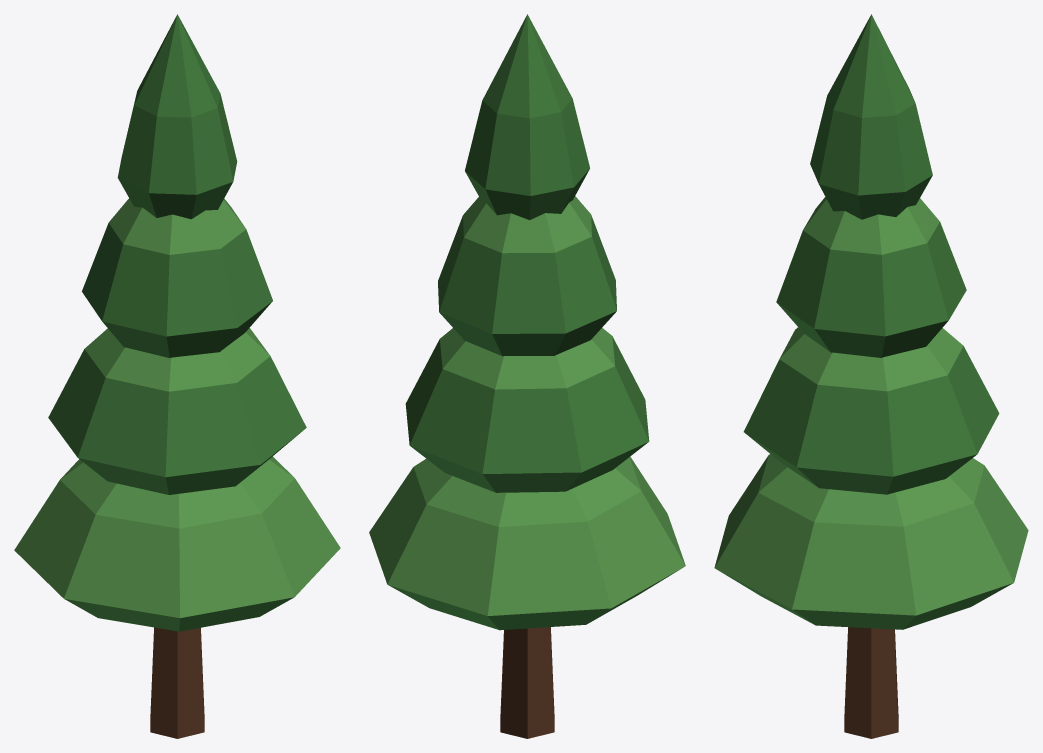
The model's file is tree_pineRoundC.glb.
The picture shows the model from 3 angles, left to right: view 1: azimuth 30°, elevation 25°; view 2: azimuth 150°, elevation 25°; view 3: azimuth 270°, elevation 25°; orthographic projection.
Parts seen in each view (by area): view 1: tree_pineRoundC; view 2: tree_pineRoundC; view 3: tree_pineRoundC.
Boxes of the visible parts, left/top/right/bottom form: tree_pineRoundC: left=14, top=14, right=340, bottom=738; tree_pineRoundC: left=369, top=14, right=685, bottom=738; tree_pineRoundC: left=714, top=14, right=1028, bottom=738.
Bounding box in the file's own units: 0.5001 × 1.25 × 0.5001.
Materials: 1 (1 with a texture image).
